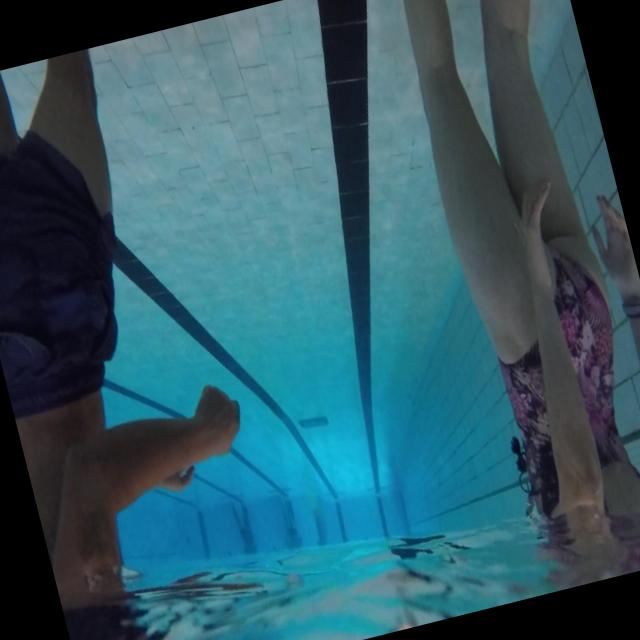human: (0, 33, 301, 640), (383, 0, 640, 595)
